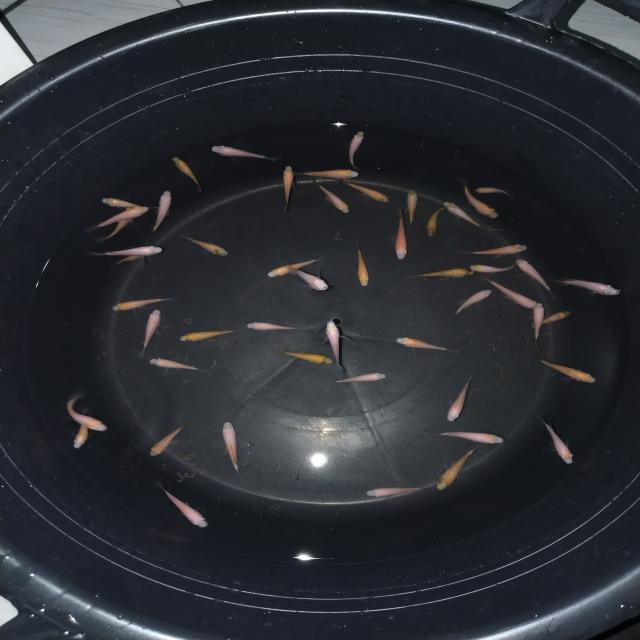nila: (158, 481, 224, 535), (524, 352, 598, 386), (60, 387, 113, 434), (434, 446, 484, 494), (418, 425, 522, 448), (82, 204, 150, 236), (538, 415, 579, 468), (218, 417, 252, 480), (485, 276, 542, 313), (458, 178, 504, 220), (443, 287, 498, 321), (264, 253, 328, 282), (444, 374, 480, 424), (512, 258, 556, 298), (441, 199, 486, 236), (166, 154, 209, 192), (133, 307, 165, 355), (556, 276, 626, 297), (98, 206, 138, 242), (321, 318, 350, 366), (286, 263, 334, 292), (458, 240, 532, 258), (147, 426, 186, 460), (210, 144, 276, 164), (344, 178, 392, 205), (85, 243, 166, 259), (182, 232, 230, 258), (110, 295, 179, 313), (316, 180, 352, 214), (392, 335, 452, 355), (278, 346, 336, 366), (391, 208, 412, 262), (145, 357, 210, 374), (176, 327, 236, 345), (296, 168, 361, 184), (151, 189, 172, 238), (351, 244, 374, 288), (344, 128, 366, 172), (408, 266, 477, 280), (247, 318, 306, 334), (363, 484, 425, 499), (100, 195, 154, 212), (278, 161, 296, 211), (533, 307, 573, 329), (331, 371, 389, 386), (113, 250, 151, 272), (70, 414, 92, 451), (402, 187, 422, 224), (426, 204, 446, 240), (532, 300, 546, 350), (469, 262, 518, 274), (472, 185, 516, 198)
